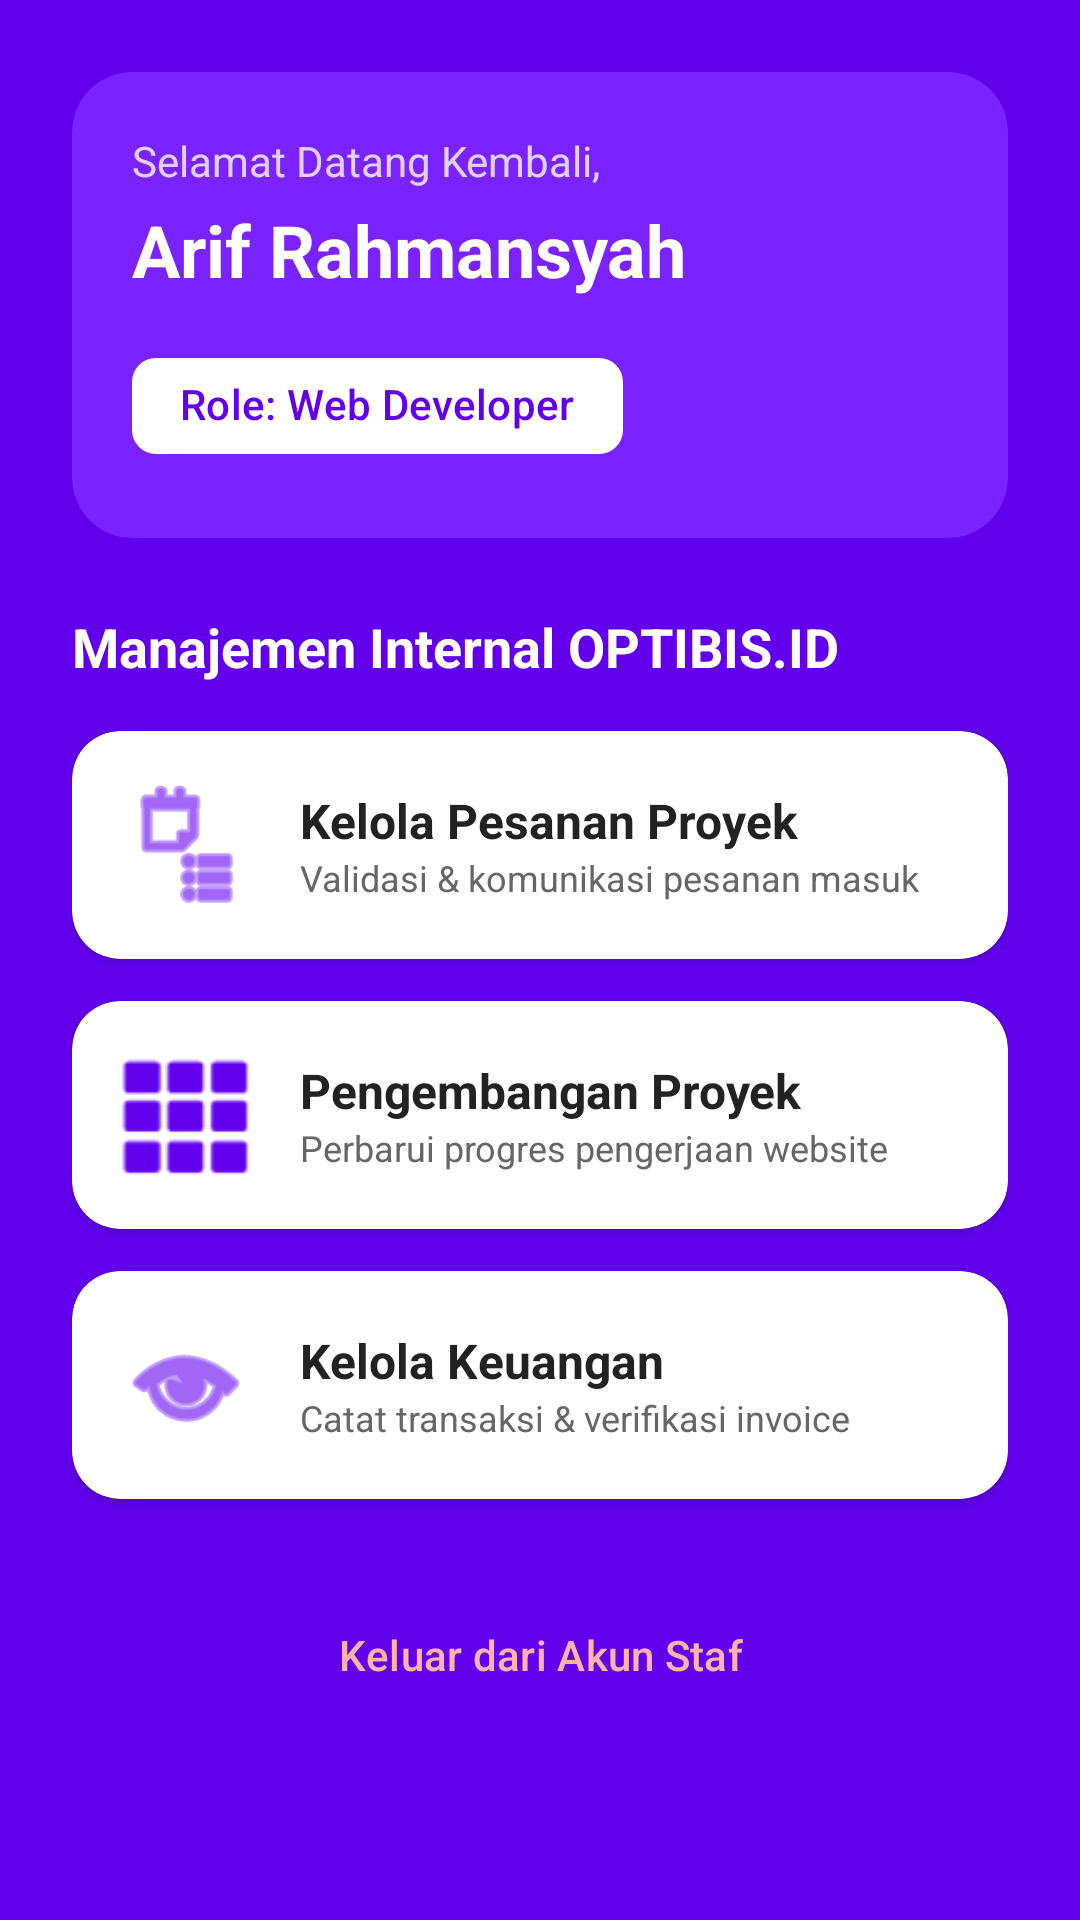

Icon bounding boxes for this 1080px×1920px phone screenshot, format (left=x1, top=y1, right=x2, bottom=y2):
agenda: (left=140, top=785, right=233, bottom=903)
dialer: (left=122, top=1059, right=249, bottom=1174)
view: (left=132, top=1354, right=240, bottom=1422)
